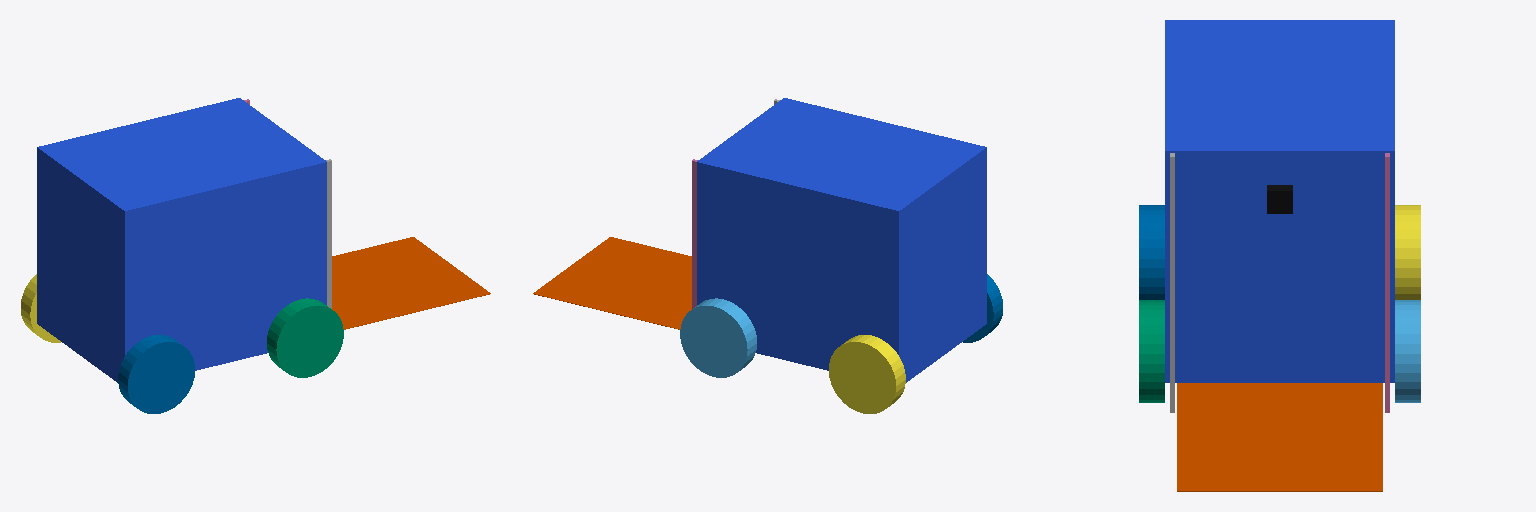
robot.urdf — four_wheel_robot:
<?xml version="1.0"?>
<robot name="four_wheel_robot">
  <link name="base_link">
    <visual>
      <geometry>
        <box size="0.60 0.45 0.5"/>
      </geometry>
      <material name="blue">
        <color rgba="0.2 0.4 0.9 1"/>
      </material>
    </visual>
    <collision>
      <geometry>
        <box size="0.60 0.45 0.5"/>
      </geometry>
    </collision>
    <inertial>
      <origin xyz="0 0 0"/>
      <mass value="20.0"/>
      <inertia ixx="0.50" ixy="0" ixz="0"
               iyy="0.70" iyz="0"
               izz="0.80"/>
    </inertial>
  </link>

  <link name="wheel_fl">
    <visual>
      <origin rpy="1.570796 0 0"/>
      <geometry><cylinder radius="0.10" length="0.05"/></geometry>
    </visual>
    <collision>
      <origin rpy="1.570796 0 0"/>
      <geometry><cylinder radius="0.10" length="0.05"/></geometry>
    </collision>
    <inertial>
      <mass value="1.5"/>
      <origin xyz="0 0 0"/>
      <inertia ixx="0.01" iyy="0.01" izz="0.01" ixy="0" ixz="0" iyz="0"/>
    </inertial>
  </link>

  <link name="wheel_fr">
    <visual>
      <origin rpy="1.570796 0 0"/>
      <geometry><cylinder radius="0.10" length="0.05"/></geometry>
    </visual>
    <collision>
      <origin rpy="1.570796 0 0"/>
      <geometry><cylinder radius="0.10" length="0.05"/></geometry>
    </collision>
    <inertial>
      <mass value="1.5"/>
      <origin xyz="0 0 0"/>
      <inertia ixx="0.01" iyy="0.01" izz="0.01" ixy="0" ixz="0" iyz="0"/>
    </inertial>
  </link>

  <link name="wheel_rl">
    <visual>
      <origin rpy="1.570796 0 0"/>
      <geometry><cylinder radius="0.10" length="0.05"/></geometry>
    </visual>
    <collision>
      <origin rpy="1.570796 0 0"/>
      <geometry><cylinder radius="0.10" length="0.05"/></geometry>
    </collision>
    <inertial>
      <mass value="1.5"/>
      <origin xyz="0 0 0"/>
      <inertia ixx="0.01" iyy="0.01" izz="0.01" ixy="0" ixz="0" iyz="0"/>
    </inertial>
  </link>

  <link name="wheel_rr">
    <visual>
      <origin rpy="1.570796 0 0"/>
      <geometry><cylinder radius="0.10" length="0.05"/></geometry>
    </visual>
    <collision>
      <origin rpy="1.570796 0 0"/>
      <geometry><cylinder radius="0.10" length="0.05"/></geometry>
    </collision>
    <inertial>
      <mass value="1.5"/>
      <origin xyz="0 0 0"/>
      <inertia ixx="0.01" iyy="0.01" izz="0.01" ixy="0" ixz="0" iyz="0"/>
    </inertial>
  </link>
<link name="slider">

  <visual>
    <origin xyz="0 0 0" rpy="0 0 0"/>
    <geometry>
      <box size="0.5 0.4 0.001"/>
    </geometry>
  </visual>

  <collision>
    <origin xyz="0 0 0" rpy="0 0 0"/>
    <geometry>
      <box size="0.5 0.4 0.009"/>
    </geometry>
  </collision>

  <inertial>
    <origin xyz="0 0 0" rpy="0 0 0"/>
    <mass value="1.0"/>

    <inertia
      ixx="0.01336"
      ixy="0.0"
      ixz="0.0"
      iyy="0.02084"
      iyz="0.0"
      izz="0.03417"/>
  </inertial>

</link>
  <joint name="front" type="prismatic">
    <parent link="base_link"/>
    <child link="slider"/>
    <axis xyz="0 0 1"/>
    <limit lower="-0.07" upper="0.25" effort="10" velocity="2"/>
    <origin xyz="0.55 0 -0.25"/>
  </joint>
<link name="support1">

  <visual>
    <origin xyz="0 0 0" rpy="0 0 0"/>
    <geometry>
      <box size="0.02 0.01 0.55"/>
    </geometry>
  </visual>

  <collision>
    <origin xyz="0 0 0" rpy="0 0 0"/>
    <geometry>
      <box size="0.02 0.01 0.55"/>
    </geometry>
  </collision>

  <inertial>
    <origin xyz="0 0 0" rpy="0 0 0"/>
    <mass value="1.0"/>

    <inertia
      ixx="0.02528"
      ixy="0.0"
      ixz="0.0"
      iyy="0.02554"
      iyz="0.0"
      izz="0.00004"/>
  </inertial>
</link>
  <joint name="s1" type="fixed">
    <parent link="base_link"/>
    <child link="support1"/>
    <origin xyz="0.31 0.21 -0.03" rpy="0 0 0"/>
  </joint>
  <link name="support2">

  <visual>
    <origin xyz="0 0 0" rpy="0 0 0"/>
    <geometry>
      <box size="0.02 0.01 0.55"/>
    </geometry>
  </visual>

  <collision>
    <origin xyz="0 0 0" rpy="0 0 0"/>
    <geometry>
      <box size="0.02 0.01 0.55"/>
    </geometry>
  </collision>

  <inertial>
    <origin xyz="0 0 0" rpy="0 0 0"/>
    <mass value="1.0"/>

    <inertia
      ixx="0.02528"
      ixy="0.0"
      ixz="0.0"
      iyy="0.02554"
      iyz="0.0"
      izz="0.00004"/>
  </inertial>
</link>
  <joint name="s2" type="fixed">
    <parent link="base_link"/>
    <child link="support2"/>
    <origin xyz="0.31 -0.21 -0.03" rpy="0 0 0"/>
  </joint>
  <joint name="wheel_fl_joint" type="continuous">
    <parent link="base_link"/>
    <child link="wheel_fl"/>
    <origin xyz="0.22 0.25 -0.22"/>
    <axis xyz="0 1 0"/>
  </joint>

  <joint name="wheel_fr_joint" type="continuous">
    <parent link="base_link"/>
    <child link="wheel_fr"/>
    <origin xyz="0.22 -0.25 -0.22"/>
    <axis xyz="0 1 0"/>
  </joint>

  <joint name="wheel_rl_joint" type="continuous">
    <parent link="base_link"/>
    <child link="wheel_rl"/>
    <origin xyz="-0.22 0.25 -0.22"/>
    <axis xyz="0 1 0"/>
  </joint>

  <joint name="wheel_rr_joint" type="continuous">
    <parent link="base_link"/>
    <child link="wheel_rr"/>
    <origin xyz="-0.22 -0.25 -0.22"/>
    <axis xyz="0 1 0"/>
  </joint>


  <link name="lidar">
    <visual>
      <geometry>
        <cylinder radius="0.02" length="0.1"/>
      </geometry>
      <origin xyz="0 0 0" rpy="0 0 0"/>
    </visual>
    <collision>
      <geometry>
        <cylinder radius="0.05" length="0.1"/>
      </geometry>
      <origin xyz="0 0 0" rpy="0 0 0"/>
    </collision>
    <inertial>
      <mass value="0.5"/>
      <origin xyz="0 0 0"/>
      <inertia ixx="0.0003" ixy="0" ixz="0"
               iyy="0.0003" iyz="0"
               izz="0.0006"/>
    </inertial>
  </link>

  <joint name="lund" type="fixed">
    <parent link="base_link"/>
    <child link="lidar"/>
    <origin xyz="0 0 0.094" rpy="0 0 0"/>
  </joint>

  <link name="camera_link">
  <visual>
    <geometry>
      <box size="0.05 0.05 0.05"/>
    </geometry>
    <material name="black">
      <color rgba="0.1 0.1 0.1 1"/>
    </material>
  </visual>

  <collision>
    <geometry>
      <box size="0.05 0.05 0.05"/>
    </geometry>
  </collision>

  <inertial>
    <mass value="0.1"/>
    <origin xyz="0 0 0"/>
    <inertia
      ixx="0.0001"
      iyy="0.0001"
      izz="0.0001"
      ixy="0"
      ixz="0"
      iyz="0"/>
  </inertial>
</link>

<joint name="camera_joint" type="fixed">
  <parent link="base_link"/>
  <child link="camera_link"/>
  <origin xyz="0.30 0 0.15" rpy="0 0 0"/>
</joint>

  <ros2_control name="GazeboSystem" type="system">
    <hardware>
      <plugin>gz_ros2_control/GazeboSimSystem</plugin>
    </hardware>
    <joint name="wheel_fl_joint">
      <command_interface name="velocity"/>
      <state_interface name="position"/>
      <state_interface name="velocity"/>
    </joint>
    <joint name="wheel_fr_joint">
      <command_interface name="velocity"/>
      <state_interface name="position"/>
      <state_interface name="velocity"/>
    </joint>
    <joint name="wheel_rl_joint">
      <command_interface name="velocity"/>
      <state_interface name="position"/>
      <state_interface name="velocity"/>
    </joint>
    <joint name="wheel_rr_joint">
      <command_interface name="velocity"/>
      <state_interface name="position"/>
      <state_interface name="velocity"/>
    </joint>
  </ros2_control>

  <gazebo>
    <plugin filename="gz-sim-diff-drive-system"
            name="gz::sim::systems::DiffDrive">
      <left_joint>wheel_rl_joint</left_joint>
      <right_joint>wheel_rr_joint</right_joint>
      <wheel_separation>0.50</wheel_separation>
      <wheel_radius>0.10</wheel_radius>
      <max_wheel_torque>20.0</max_wheel_torque>
      <max_wheel_acceleration>5.0</max_wheel_acceleration>
      <topic>cmd_vel</topic>
      <odom_topic>odom</odom_topic>
      <tf_topic>tf</tf_topic>
      <frame_id>odom</frame_id>
      <child_frame_id>base_link</child_frame_id>
      <odom_publisher_frequency>30</odom_publisher_frequency>
    </plugin>

    <plugin filename="gz-sim-joint-state-publisher-system"
            name="gz::sim::systems::JointStatePublisher">
      <topic>joint_states</topic>
      <joint_name>wheel_fl_joint</joint_name>
      <joint_name>wheel_fr_joint</joint_name>
      <joint_name>wheel_rl_joint</joint_name>
      <joint_name>wheel_rr_joint</joint_name>
    </plugin>
  </gazebo>

  <gazebo>
    <plugin filename="libgz_ros2_control-system.so"
            name="gz_ros2_control::GazeboSimROS2ControlPlugin">
      <parameters>/home/iamironman/ros2/src/cpp/config/config.yaml</parameters>
    </plugin>
  </gazebo>

  <gazebo reference="lidar">
    <sensor name="gpu_lidar" type="gpu_lidar">
      <pose>0 0 0 0 0 0</pose>
      <visualize>true</visualize>
      <update_rate>10</update_rate>
      <lidar>
        <scan>
          <horizontal>
            <samples>360</samples>
            <resolution>1</resolution>
            <min_angle>-3.14159</min_angle>
            <max_angle>3.14159</max_angle>
          </horizontal>
        </scan>
        <range>
          <min>0.3</min>
          <max>12.0</max>
          <resolution>0.01</resolution>
        </range>
      </lidar>
      <topic>scan</topic>
      <gz_frame_id>lidar</gz_frame_id>
    </sensor>
  </gazebo>

  <gazebo reference="camera_link">
  <sensor name="depth_camera" type="depth_camera">
    <always_on>true</always_on>
    <update_rate>30</update_rate>
    <visualize>true</visualize>

    <camera>
      <horizontal_fov>1.047</horizontal_fov>
      <image>
        <width>640</width>
        <height>480</height>
        <format>R_FLOAT32</format>
      </image>
      <clip>
        <near>0.05</near>
        <far>5.0</far>
      </clip>
    </camera>

    <topic>camera</topic>

  </sensor>
</gazebo>

<gazebo reference="camera_link">
  <sensor name="rgb_camera" type="camera">
    <always_on>true</always_on>
    <update_rate>30</update_rate>
    <visualize>true</visualize>

    <camera>
      <horizontal_fov>1.047</horizontal_fov>
      <image>
        <width>640</width>
        <height>480</height>
        <format>R8G8B8</format>
      </image>
      <clip>
        <near>0.05</near>
        <far>10.0</far>
      </clip>
    </camera>

    <topic>camera/rgb</topic>

  </sensor>
</gazebo>
<link name="photo_sensor_link">
  <visual>
    <geometry>
      <box size="0.02 0.02 0.02"/>
    </geometry>
  </visual>

  <collision>
    <geometry>
      <box size="0.02 0.02 0.02"/>
    </geometry>
  </collision>

  <inertial>
    <mass value="0.01"/>
    <origin xyz="0 0 0"/>
    <inertia
      ixx="0.00001"
      ixy="0"
      ixz="0"
      iyy="0.00001"
      iyz="0"
      izz="0.00001"/>
  </inertial>
</link>

<joint name="photo_sensor_joint" type="fixed">
  <parent link="base_link"/>
  <child link="photo_sensor_link"/>
  <origin xyz="0.15 0 0.05" rpy="0 0 0"/>
</joint>

<gazebo reference="photo_sensor_link">

  <sensor name="photo_sensor" type="ray">

    <always_on>true</always_on>
    <visualize>true</visualize>
    <update_rate>30</update_rate>

    <ray>

      <scan>
        <horizontal>
          <samples>1</samples>
          <resolution>1</resolution>
          <min_angle>0</min_angle>
          <max_angle>0</max_angle>
        </horizontal>
      </scan>

      <range>
        <min>0.01</min>
        <max>1.0</max>
        <resolution>0.001</resolution>
      </range>

    </ray>

    <plugin
      name="gazebo_ros_ray_sensor"
      filename="libgazebo_ros_ray_sensor.so">

      <ros>
        <namespace>/photo_sensor</namespace>
        <remapping>~/out:=scan</remapping>
      </ros>

      <output_type>sensor_msgs/LaserScan</output_type>

      <frame_name>photo_sensor_link</frame_name>

    </plugin>

  </sensor>

</gazebo>
</robot>

--- What the picture shows (computed from the rendered views, not written in the file) ---
3 views of the same robot in one strip: view 1: azimuth 30°, elevation 25°; view 2: azimuth 150°, elevation 25°; view 3: azimuth 270°, elevation 25° (orthographic).
Robot: four_wheel_robot — 11 links, 10 joints (4 continuous, 1 prismatic, 5 fixed); root link base_link; default pose: every joint at zero.
Visible links, largest first — view 1: base_link, slider, wheel_fr, wheel_rr, wheel_rl, support2; view 2: base_link, slider, wheel_fl, wheel_rl, wheel_rr, support1; view 3: base_link, slider, wheel_fl, wheel_fr, wheel_rl, wheel_rr, support1, support2, camera_link.
Link boxes in pixels (box(x1,y1,x2,y2)): base_link: box(37, 98, 326, 382); slider: box(332, 237, 490, 329); wheel_fr: box(267, 298, 343, 377); wheel_rr: box(118, 335, 194, 413); wheel_rl: box(21, 274, 60, 342); support2: box(326, 159, 331, 308); base_link: box(697, 98, 986, 382); slider: box(533, 237, 691, 329); wheel_fl: box(680, 298, 756, 377); wheel_rl: box(829, 335, 905, 413); wheel_rr: box(963, 274, 1002, 342); support1: box(692, 159, 697, 308); base_link: box(1165, 20, 1394, 382); slider: box(1177, 383, 1382, 491); wheel_fl: box(1395, 300, 1420, 402); wheel_fr: box(1139, 300, 1164, 402); wheel_rl: box(1395, 205, 1420, 299); wheel_rr: box(1139, 205, 1164, 299); support1: box(1385, 153, 1389, 412); support2: box(1170, 153, 1174, 412); camera_link: box(1267, 185, 1292, 213).
Bounding box of the posed robot: 1.12 × 0.55 × 0.57 m (x, y, z).
Geometry: primitives only (box / cylinder / sphere), no mesh files.
